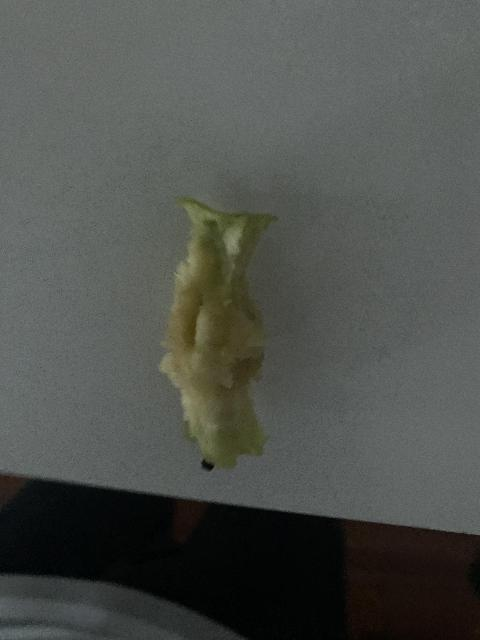Organik: (154, 203, 302, 473)
